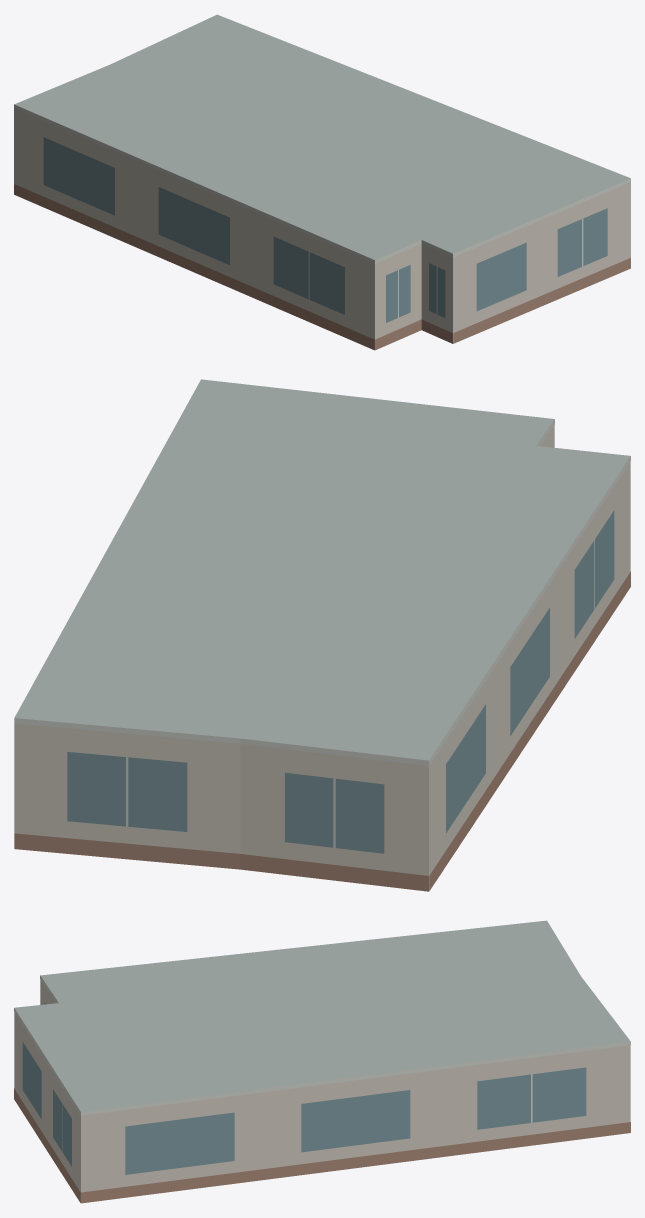
The model's file is survey-upis-32752435.glb.
3 renders of one model, top to bottom at view 1: azimuth 30°, elevation 25°; view 2: azimuth 150°, elevation 25°; view 3: azimuth 270°, elevation 25°, orthographic. The views are drawn at different scales.
Parts seen in each view (by area): view 1: survey-upis-32752435.tmp; view 2: survey-upis-32752435.tmp; view 3: survey-upis-32752435.tmp.
Part boxes in pixels (x1,y1,x2,y2): survey-upis-32752435.tmp: [14, 14, 630, 350]; survey-upis-32752435.tmp: [14, 379, 630, 891]; survey-upis-32752435.tmp: [14, 920, 630, 1203].
Bounding box in the file's own units: 13.7 × 3.05 × 18.65.
